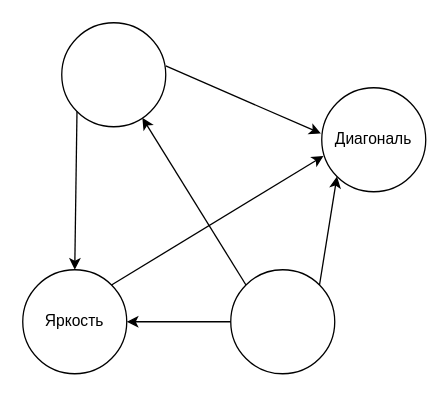
The diagram is 448 pixels wide and 397 high, and some of its shapes have lost their labels. Here are the shapes that lost their labels. From the top down, the centre of each, then its label:
At (x=113, y=74): "Частота".
At (x=282, y=321): "Разрешение".
